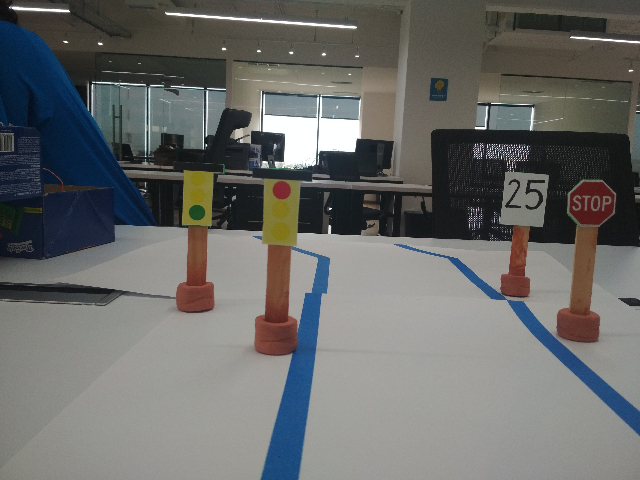Green Traffic Light: (170, 157, 226, 226)
Red Traffic Light: (248, 165, 314, 246)
Speed Limit 25: (496, 169, 552, 229)
Stop Sign: (565, 176, 619, 227)
